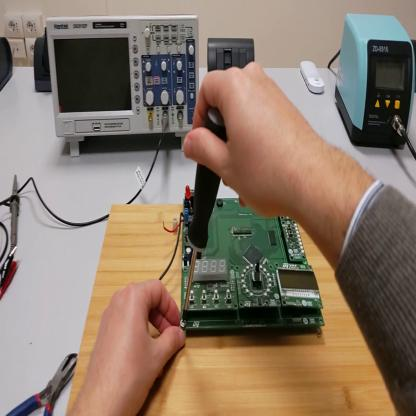hand: (187, 60, 311, 222), (75, 277, 186, 413)
low voltage board: (157, 187, 324, 333)
oscilloscope: (47, 17, 200, 162)
oscilloscope probe tip: (8, 175, 21, 252)
pliers: (8, 353, 80, 416)
screwdriver-: (183, 108, 229, 320)
socket: (34, 38, 53, 94), (1, 36, 14, 98)
welder station: (337, 16, 415, 148)
working area: (64, 206, 396, 415)
